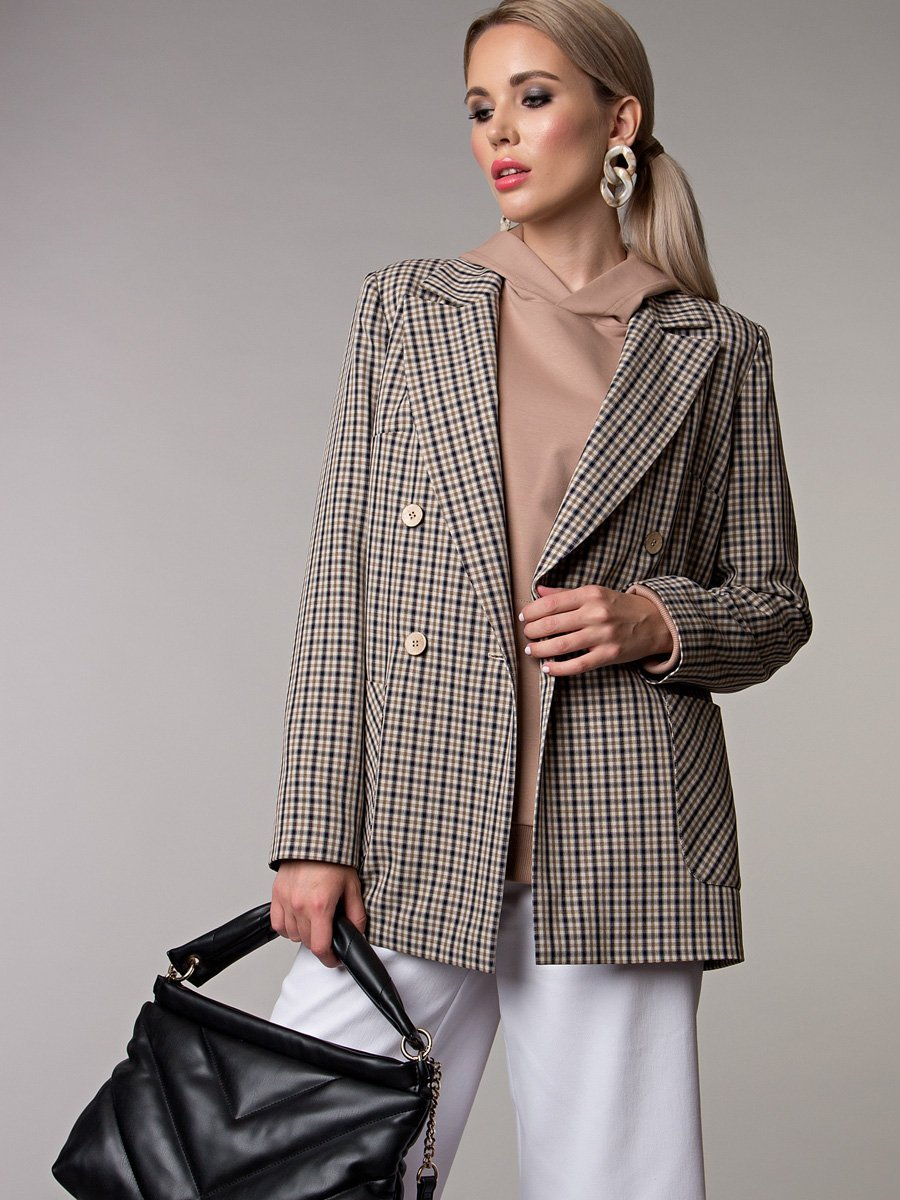squared: (261, 241, 823, 980)
